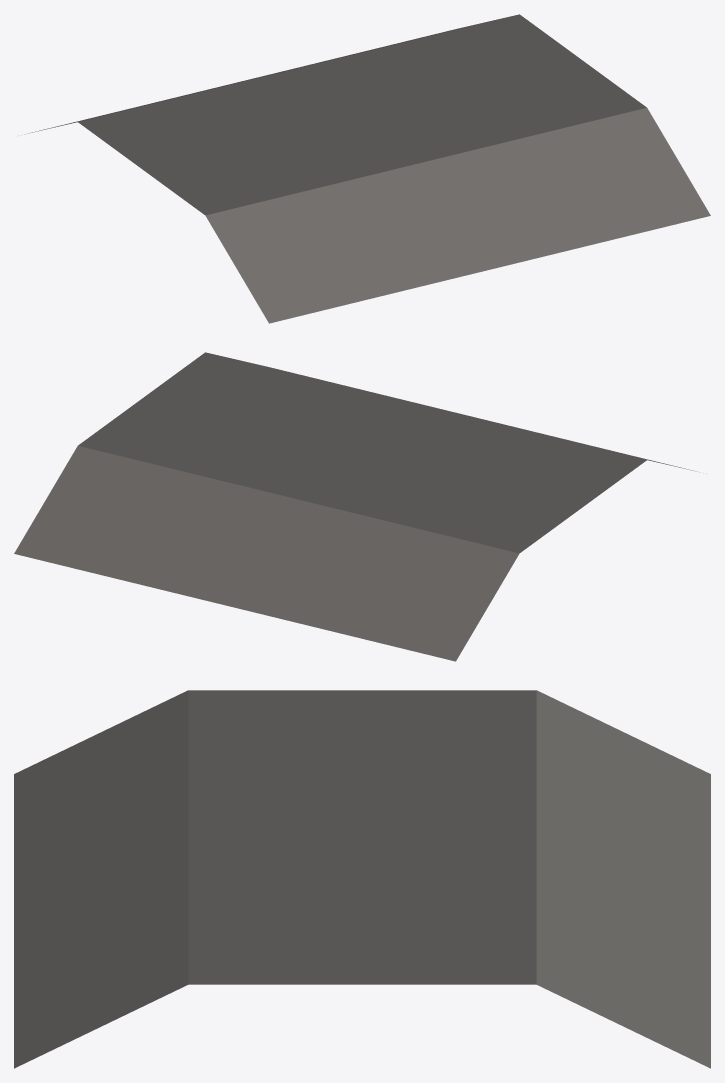
The model's file is AI_Env_Sewer_Roof_Straight.fbx.
The picture shows the model from 3 angles, top to bottom: view 1: azimuth 30°, elevation 25°; view 2: azimuth 150°, elevation 25°; view 3: azimuth 270°, elevation 25°; orthographic projection. The views are drawn at different scales.
Visible parts, largest first — view 1: AI_Env_Sewer_Roof_Straight; view 2: AI_Env_Sewer_Roof_Straight; view 3: AI_Env_Sewer_Roof_Straight.
Boxes of the visible parts, box(x1,y1,x2,y2) form: AI_Env_Sewer_Roof_Straight: box(25, 14, 710, 323); AI_Env_Sewer_Roof_Straight: box(14, 352, 699, 661); AI_Env_Sewer_Roof_Straight: box(14, 690, 710, 1068).
Bounding box in the file's own units: 5 × 0.6645 × 5.
